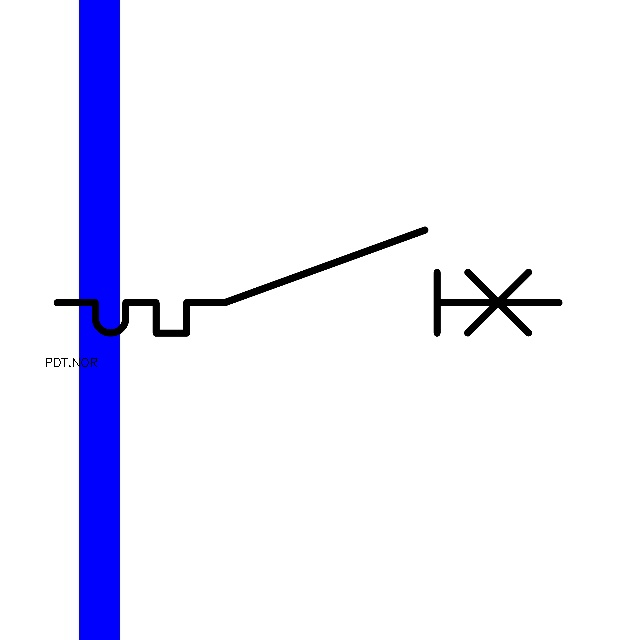interruptor_termomagnetico: (44, 217, 571, 346)
